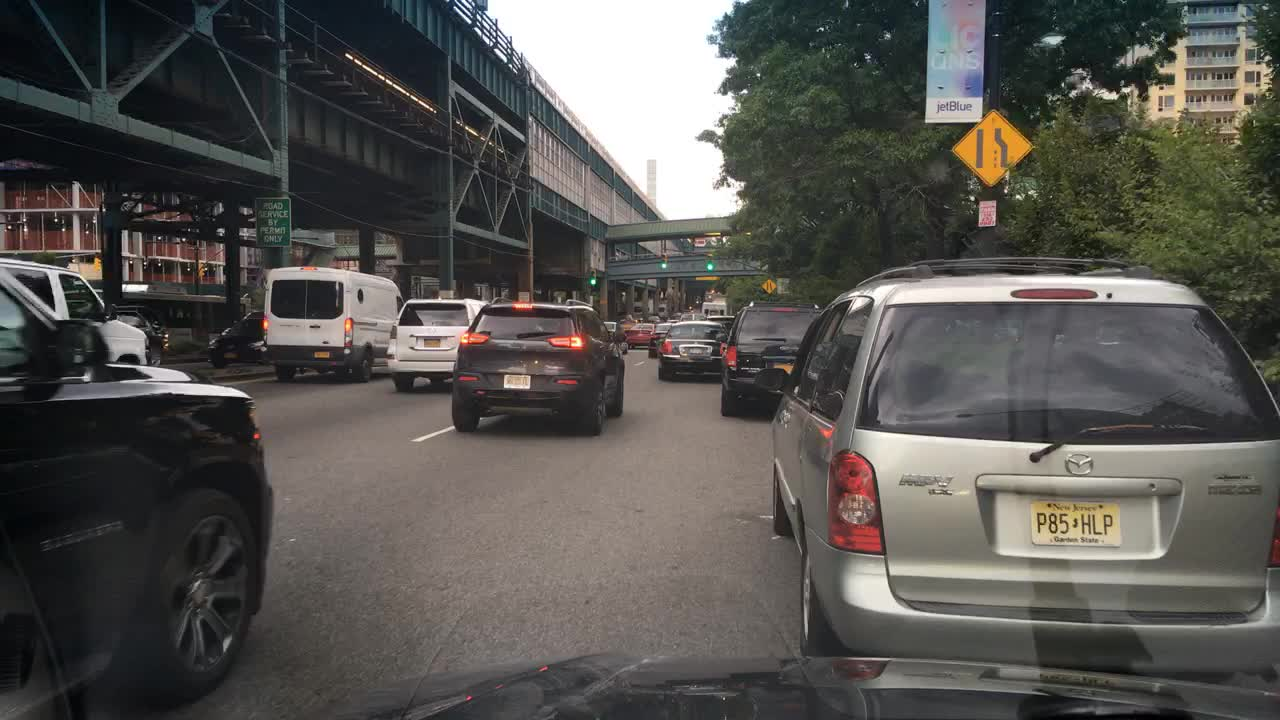bus: (116, 295, 245, 350), (702, 300, 728, 321)
car: (769, 255, 1277, 683), (0, 264, 274, 718), (450, 298, 623, 433), (263, 266, 405, 384), (0, 256, 152, 365), (720, 302, 826, 415), (386, 299, 488, 392), (655, 323, 727, 382), (205, 308, 271, 368), (105, 305, 165, 368), (649, 322, 681, 358), (603, 321, 627, 353), (627, 321, 653, 347), (706, 314, 735, 329), (666, 312, 683, 323), (680, 314, 704, 321), (645, 314, 659, 324)
traffic light: (705, 251, 714, 271), (659, 251, 666, 271), (587, 277, 599, 287), (197, 262, 205, 277), (94, 254, 101, 271)
traffic sign: (950, 110, 1029, 185), (254, 197, 290, 247), (977, 202, 995, 227), (776, 275, 790, 296), (760, 278, 775, 293)
